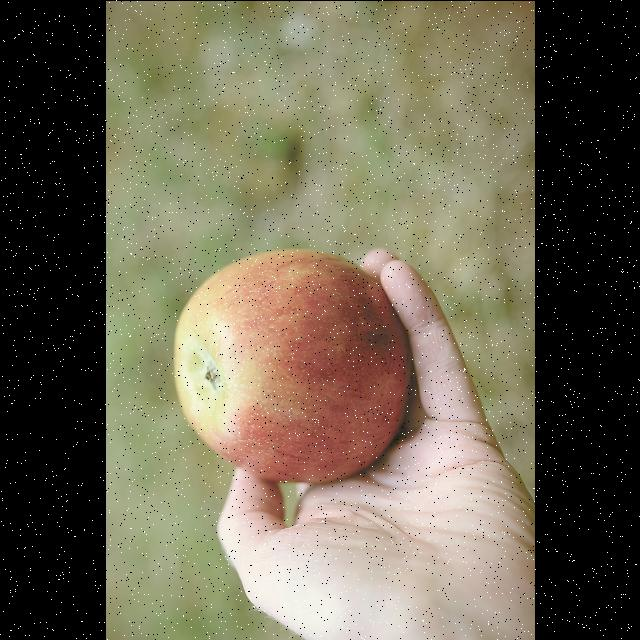Apel Segar: (167, 218, 426, 502)
